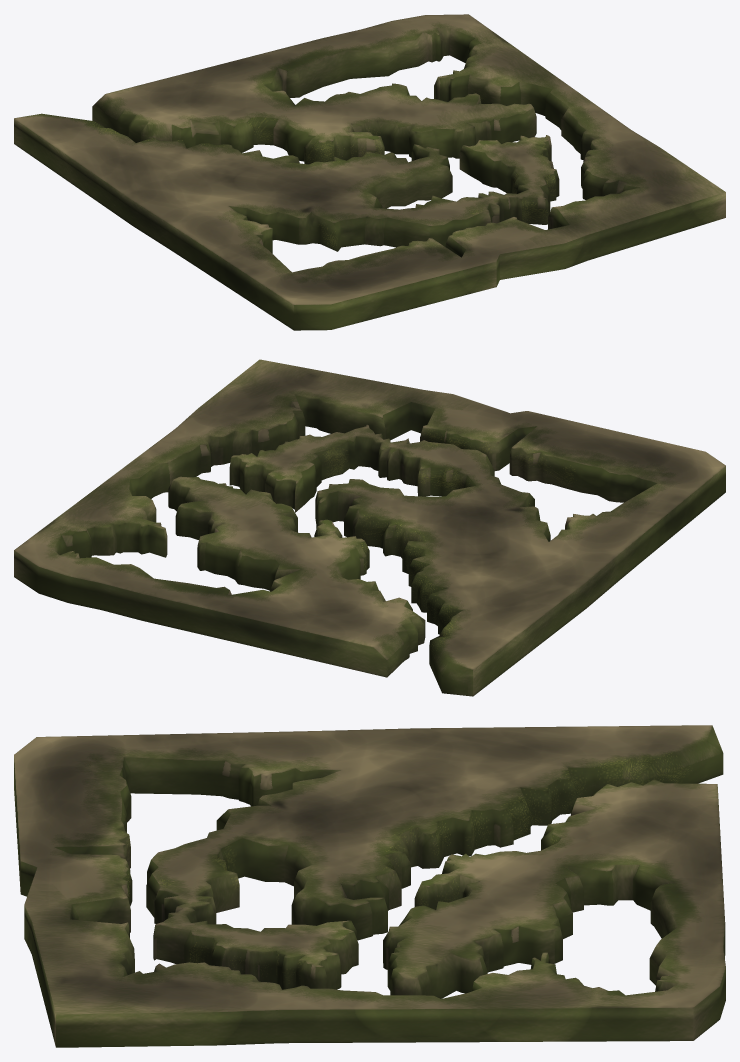
File: LVL1-1BASE_MESH.fbx
3 views of the same model, one above another, from view 1: azimuth 30°, elevation 25°; view 2: azimuth 150°, elevation 25°; view 3: azimuth 270°, elevation 25° (orthographic). The views are drawn at different scales.
Parts seen in each view (by area): view 1: polySurface3; view 2: polySurface3; view 3: polySurface3.
Boxes of the visible parts, x1,y1,x2,y2 form: polySurface3: (14, 14, 725, 330); polySurface3: (14, 359, 725, 696); polySurface3: (14, 725, 725, 1047).
Bounding box in the file's own units: 311 × 16.7 × 324.
Materials: 1 (1 with a texture image).
